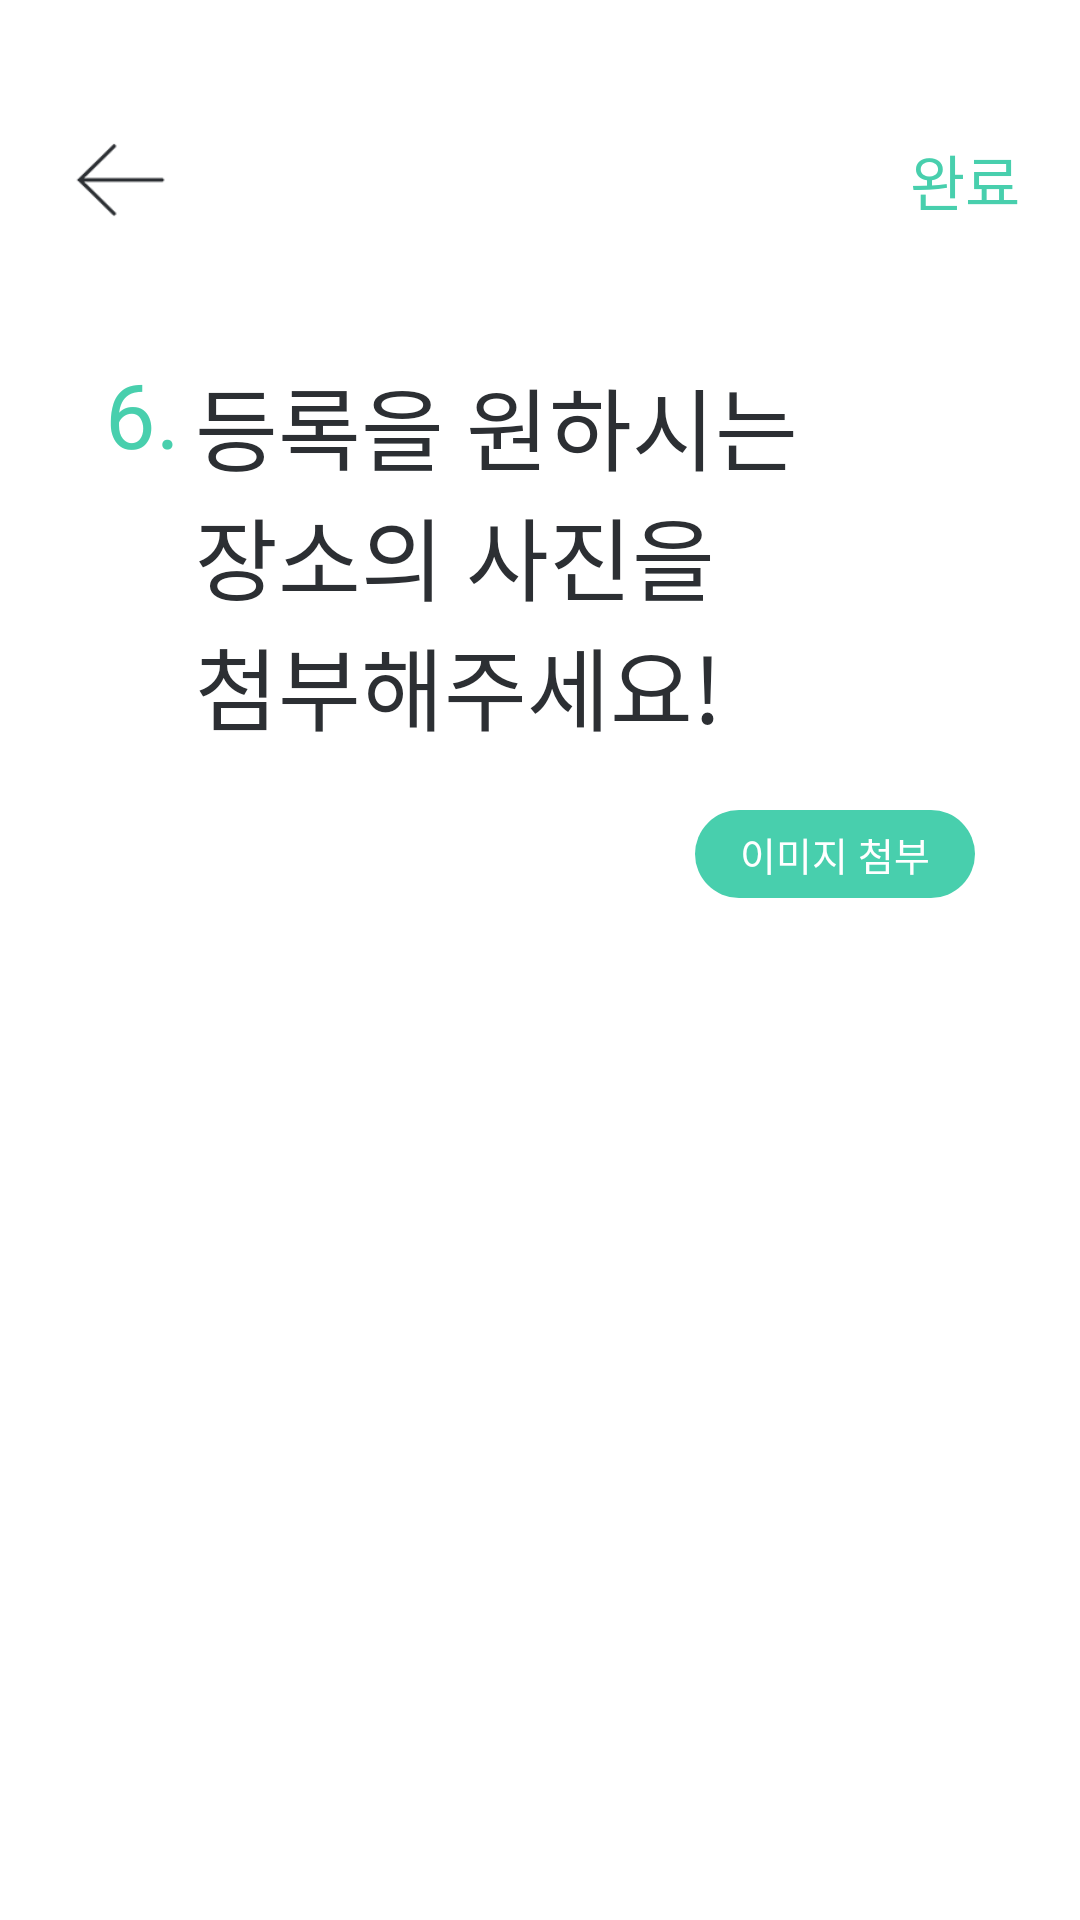

Named icons in this screenshot (1080px x 1920px) and their centers, (x=x, y=y):
back arrow: (x=121, y=180)
